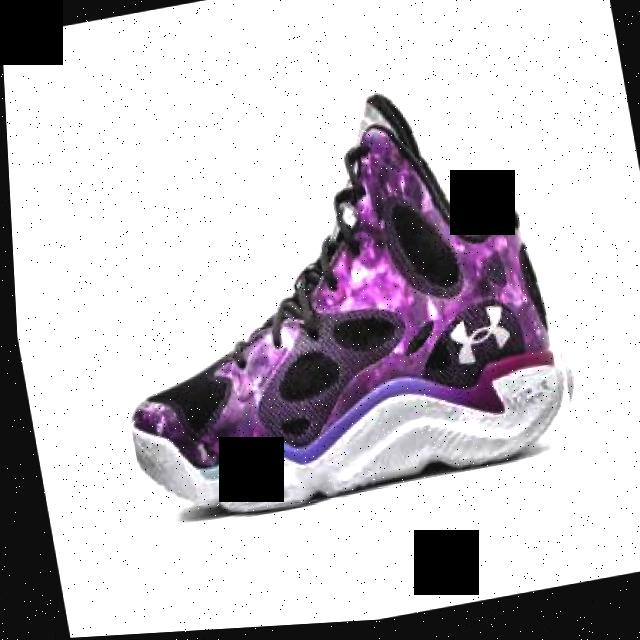shoe: (77, 65, 586, 533)
